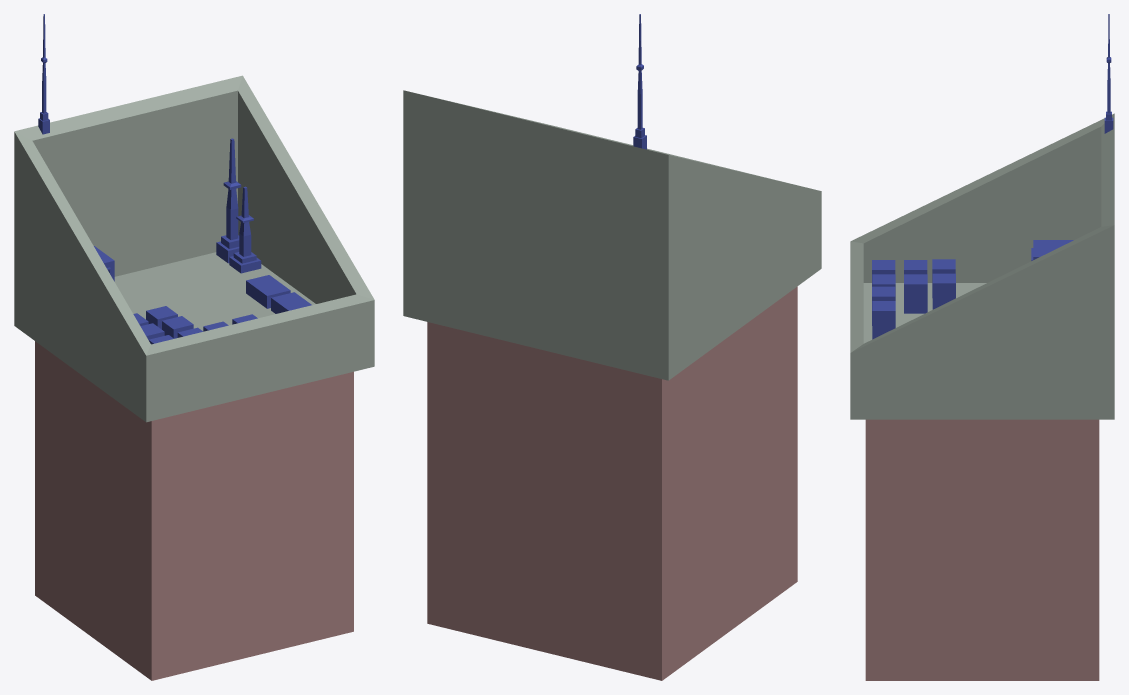
File: Building_C1.fbx
3 views of the same model, side by side, from view 1: azimuth 30°, elevation 25°; view 2: azimuth 150°, elevation 25°; view 3: azimuth 270°, elevation 25° (orthographic). The views are drawn at different scales.
Parts seen in each view (by area): view 1: pCube40; view 2: pCube40; view 3: pCube40.
Boxes of the visible parts, left/top/right/bottom form: pCube40: left=14, top=14, right=374, bottom=680; pCube40: left=403, top=14, right=821, bottom=680; pCube40: left=850, top=14, right=1114, bottom=680.
Size of the model in its own units: 6.81 by 16.35 by 6.81.
